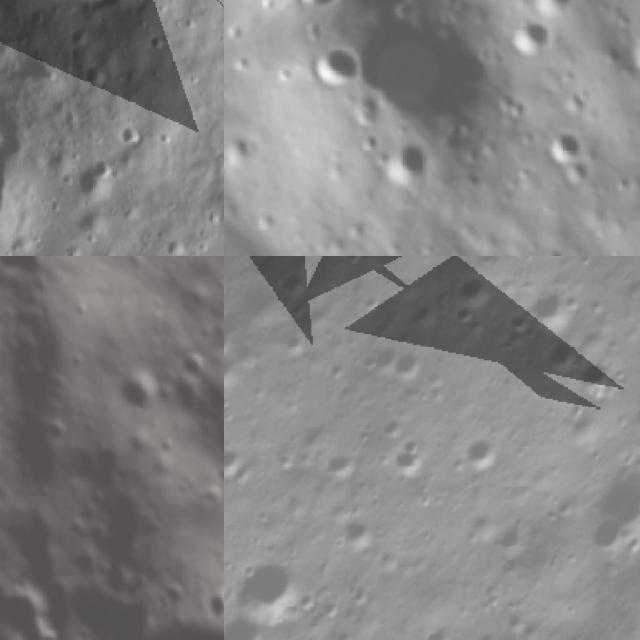crater: (341, 0, 504, 140), (290, 256, 511, 304), (226, 541, 320, 635), (569, 438, 640, 555), (384, 331, 449, 400), (485, 504, 550, 572), (448, 416, 514, 482), (110, 361, 175, 426), (445, 265, 510, 329), (333, 503, 397, 568), (570, 347, 634, 411), (377, 136, 443, 197), (381, 428, 442, 491), (313, 432, 373, 495), (306, 38, 366, 92), (528, 278, 581, 336), (511, 10, 565, 66), (224, 429, 268, 497), (270, 256, 324, 310), (0, 256, 65, 296), (224, 595, 281, 640), (539, 336, 590, 385), (188, 564, 224, 633), (224, 127, 270, 178), (171, 341, 219, 388), (542, 123, 591, 169), (276, 325, 319, 368), (497, 84, 537, 130), (224, 341, 247, 400), (623, 386, 640, 461), (531, 0, 585, 19), (623, 17, 640, 71), (72, 22, 95, 59), (86, 58, 110, 92), (120, 127, 146, 151), (31, 11, 48, 38), (162, 242, 183, 256), (224, 152, 230, 195)
